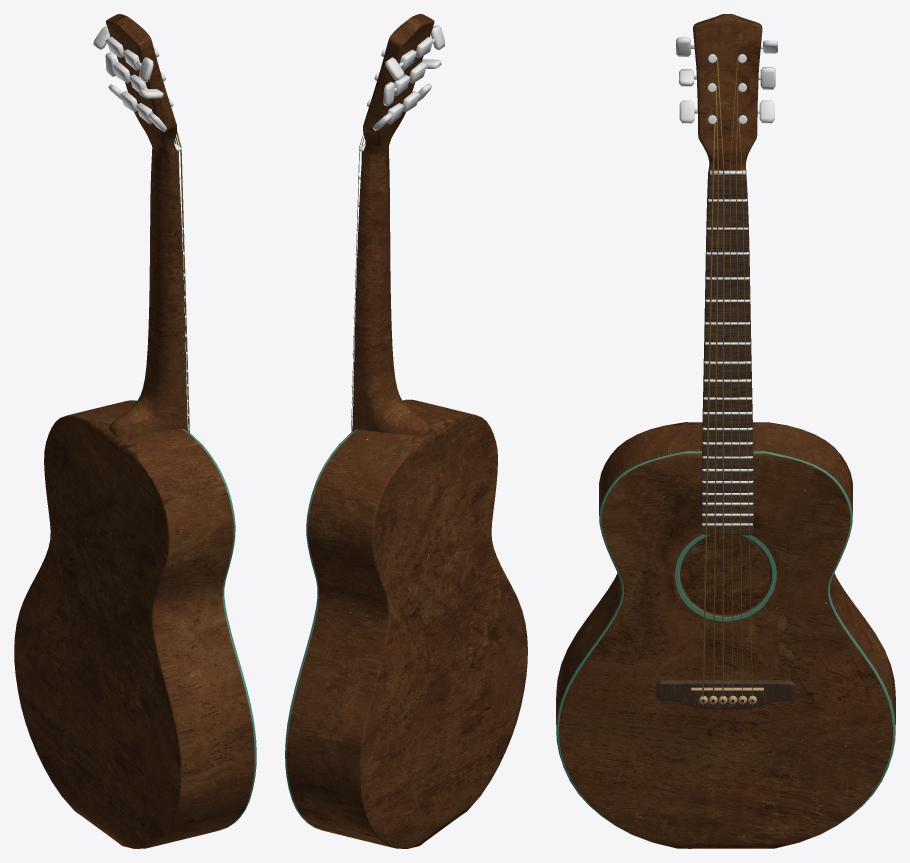
Rendered from acoustic_guitar-compressed.glb.
3 views of the same model, side by side, from view 1: azimuth 30°, elevation 25°; view 2: azimuth 150°, elevation 25°; view 3: azimuth 270°, elevation 25° (orthographic).
Parts seen in each view (by area): view 1: GRIFF; view 2: GRIFF; view 3: GRIFF.
Boxes of the visible parts, box(x1,y1,x2,y2) form: GRIFF: box(14, 14, 256, 848); GRIFF: box(285, 14, 527, 848); GRIFF: box(556, 14, 895, 848).
Bounding box in the file's own units: 0.2515 × 2.21 × 0.8325.
9 materials, 3 textured.
